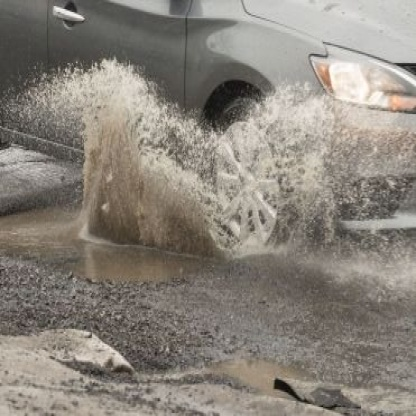pothole: (1, 169, 214, 313)
